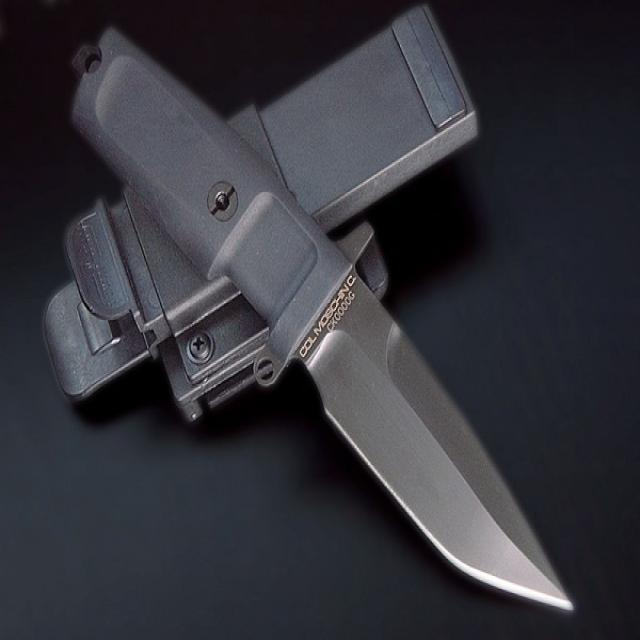knife: (70, 21, 580, 632)
